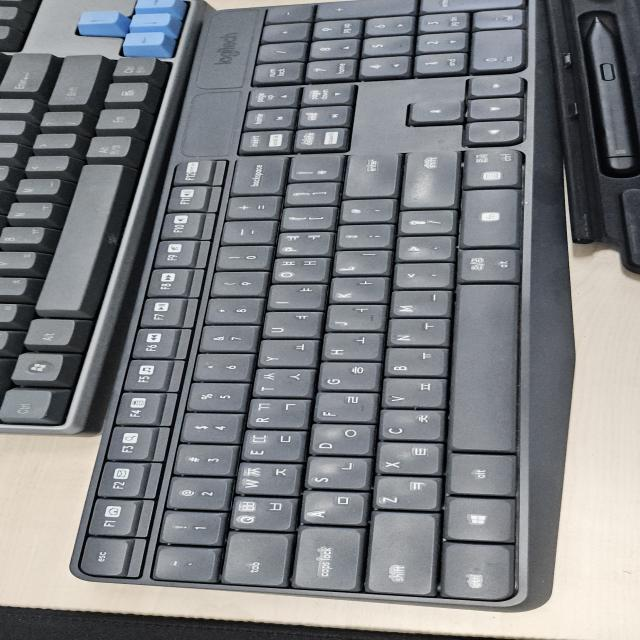Keyboard: (4, 1, 633, 617)
